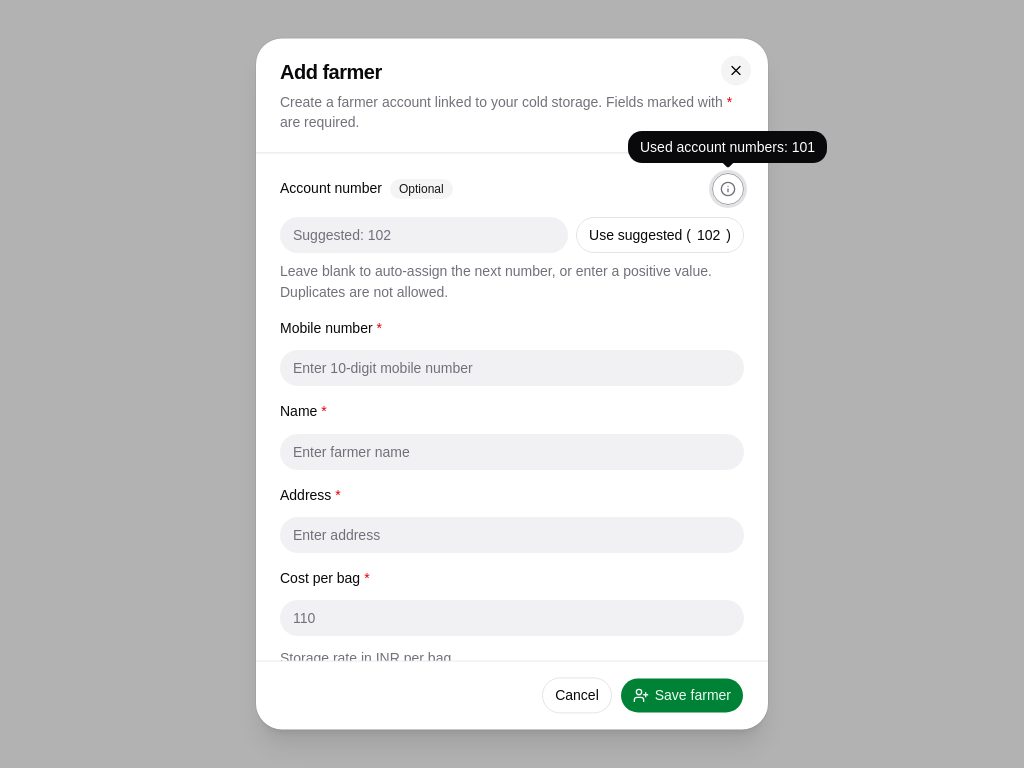
Test: AddFarmerDialog › sanitizes mobile number input to digits only
This screenshot has width=1024, height=768.
Click the field with placeholder "Enter 10-digit mobile number" at [512, 369], box [280,351,744,387]
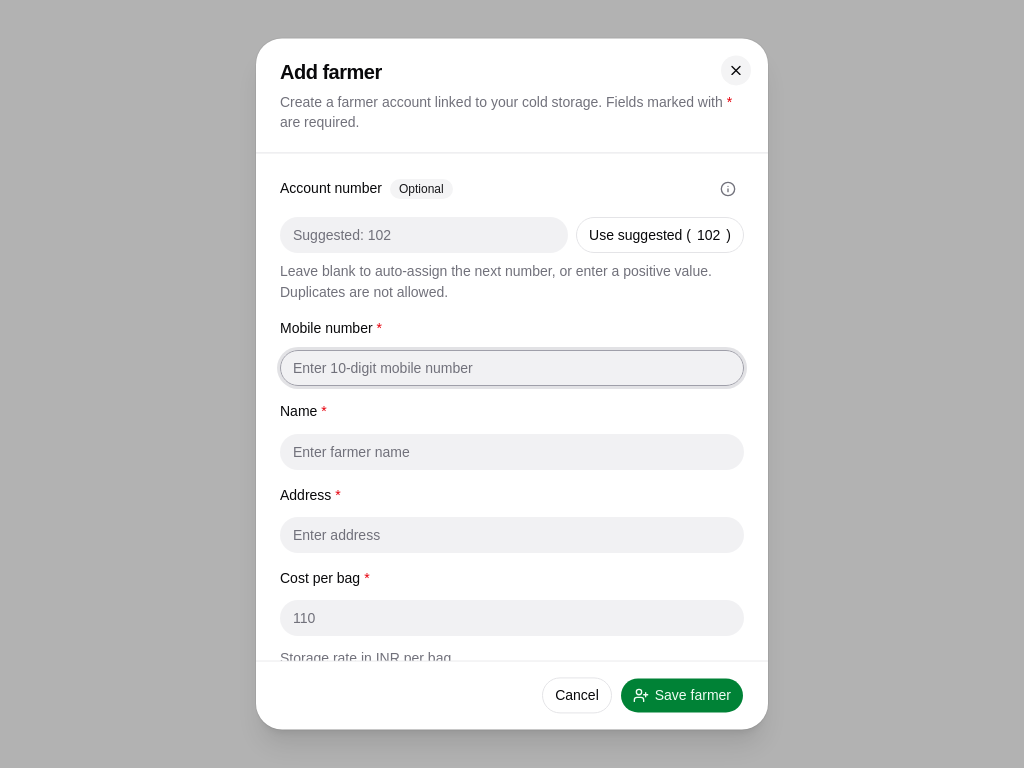
Type keys "98abc76543210"
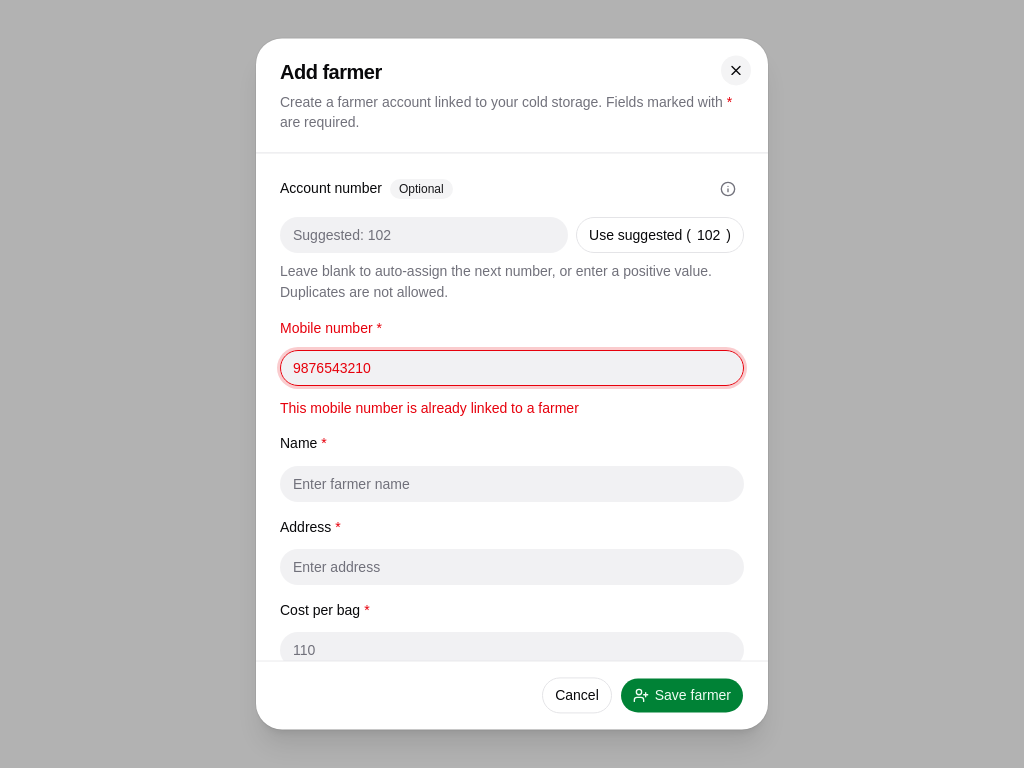
Expected: the field with placeholder "Enter 10-digit mobile number" holds "9876543210", [280,351,744,387]
